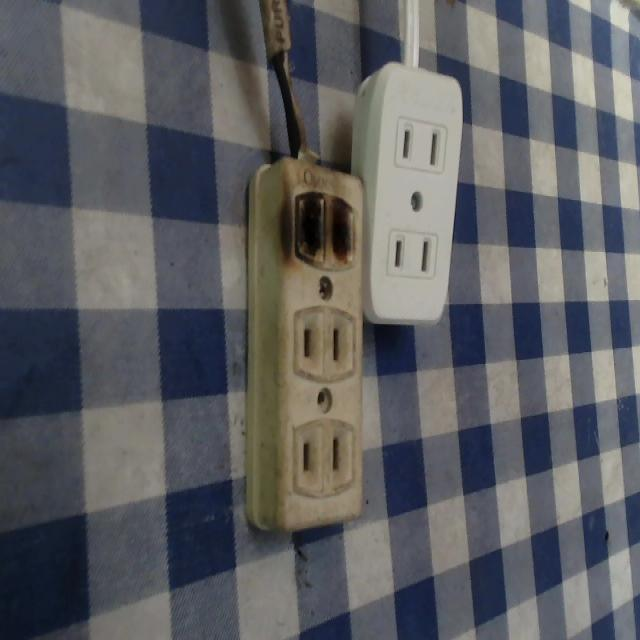-: (280, 186, 366, 282)
